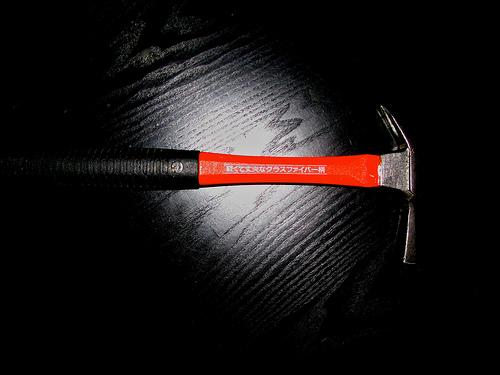hammer: (2, 98, 425, 269)
